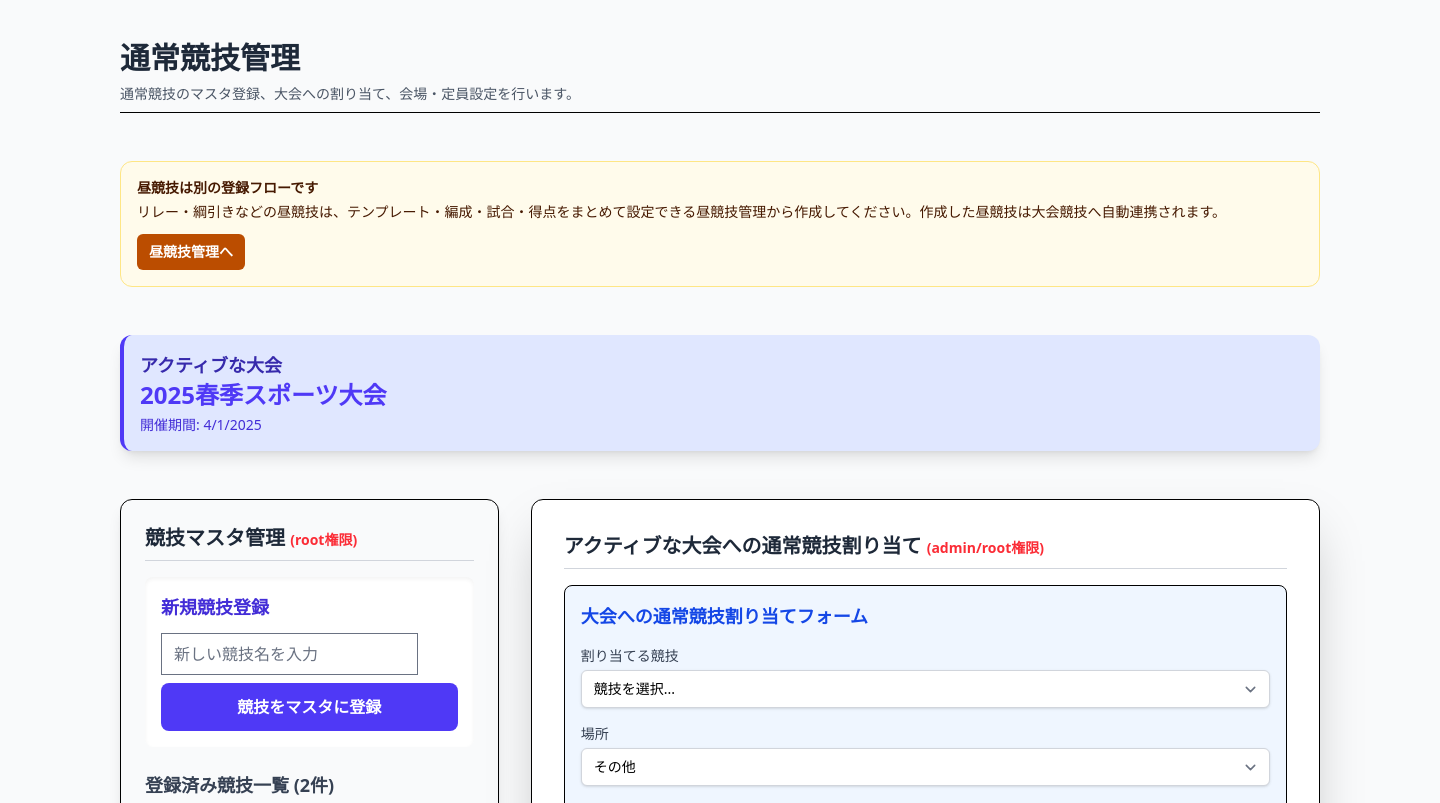
Test: Sport Management Page › 新しい競技をマスタ登録するとPOST送信して一覧を更新すること
Type "綱引き" into the field with placeholder "新しい競技名を入力" at (290, 654), box [161, 633, 418, 675]
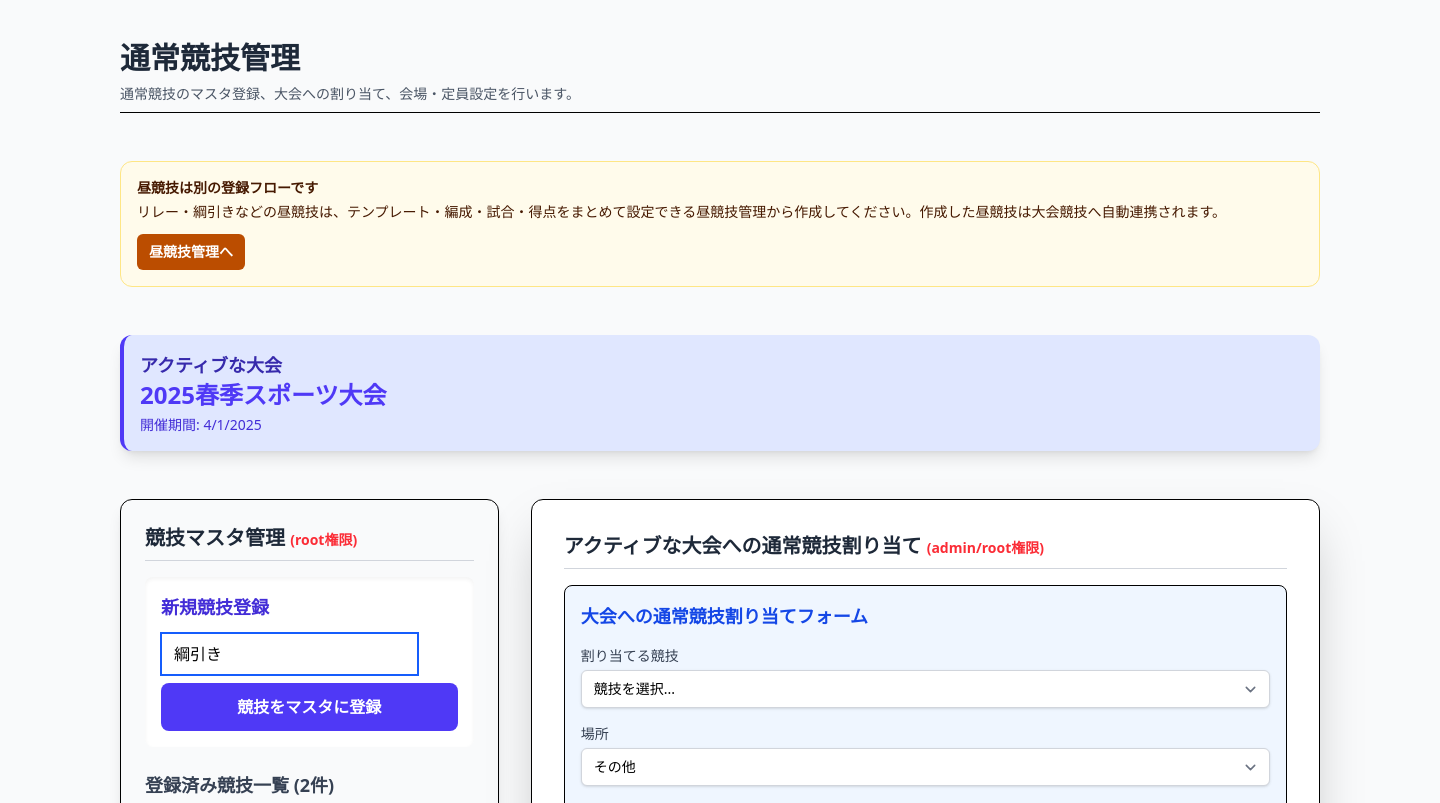
Click the button "競技をマスタに登録" at (309, 707), box [161, 683, 458, 731]
(page scrolled)
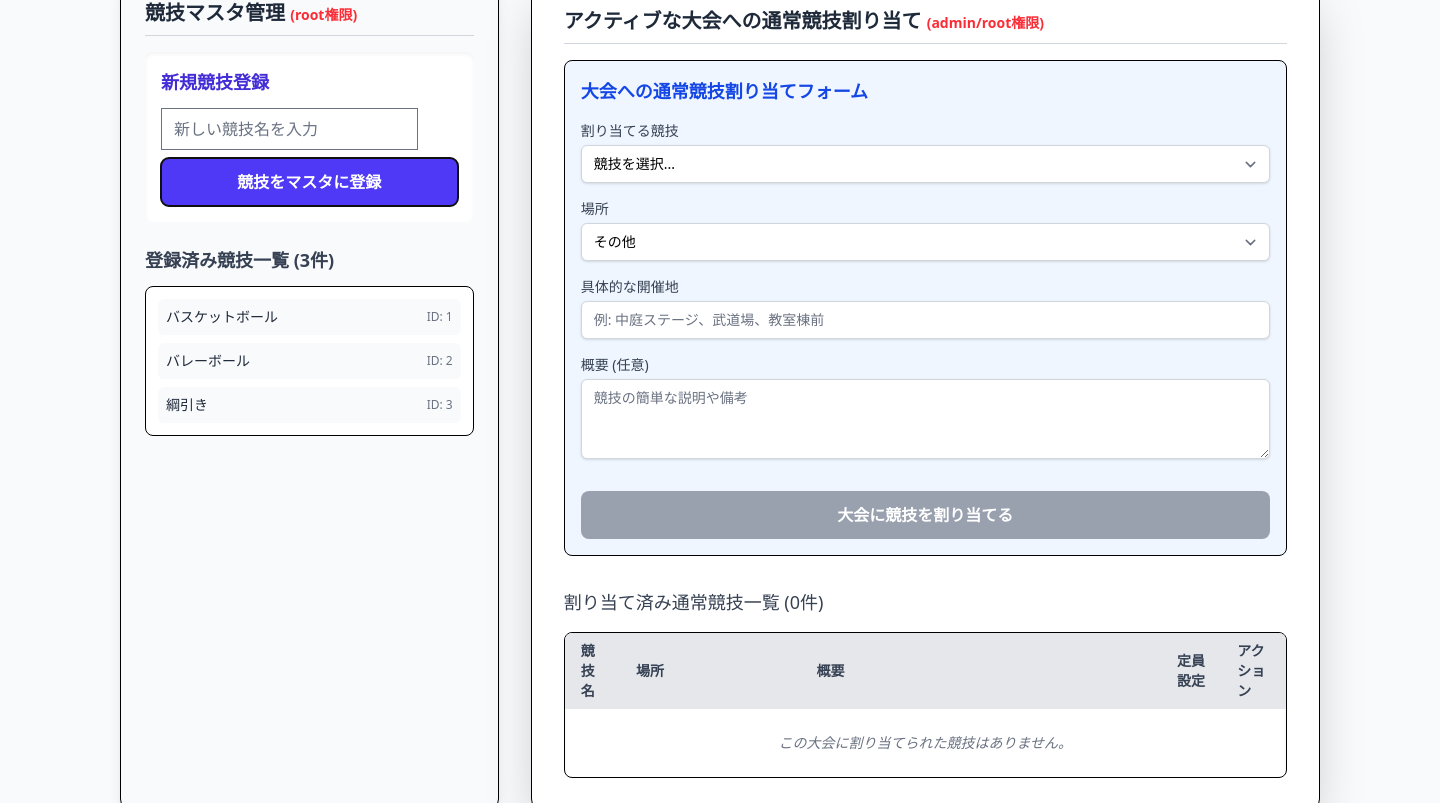
Now the text "綱引き" is shown, box [166, 395, 208, 415]
